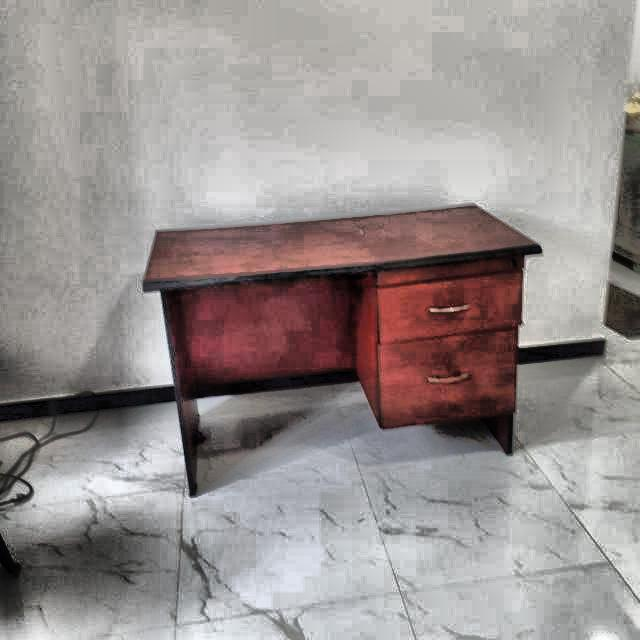mesa: (130, 197, 559, 514)
